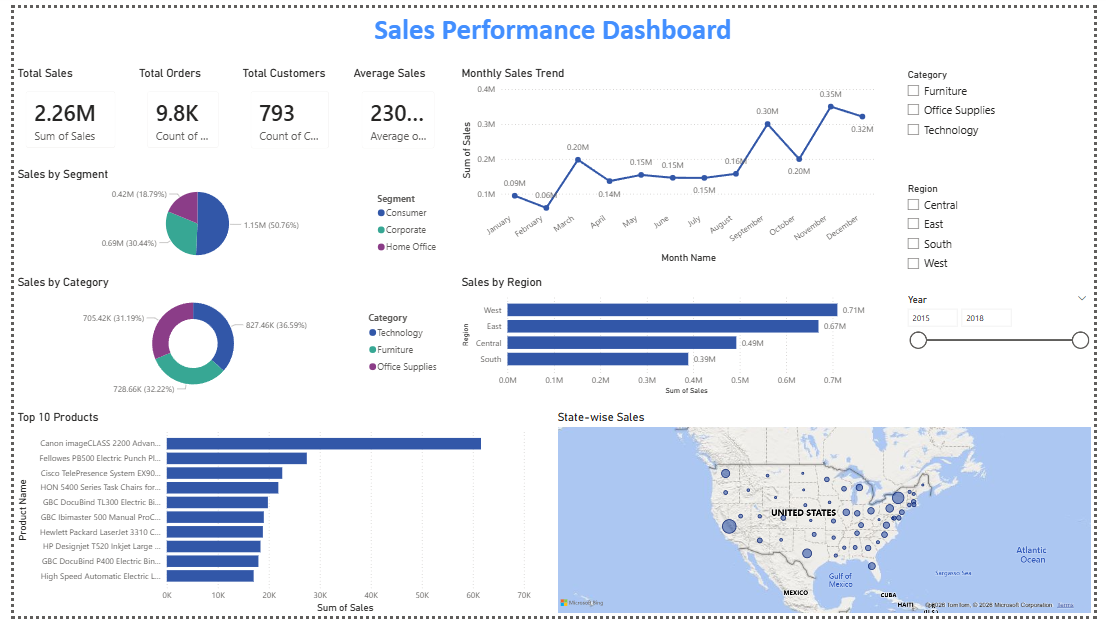

The page's visual inventory and layout, read from the dashboard file:
{"tool":"powerbi","page":{"name":"Page 1","canvas":[1600,900],"ordinal":0},"visuals":[{"type":"cardVisual","title":"Total Sales","fields":{"Data":["Sum(train.Sales)"]},"box":[0,87.5,167.5,137.5],"z":0},{"type":"cardVisual","title":"Total Orders","fields":{"Data":["CountNonNull(train.Sales)"]},"box":[179.3,87.3,140.7,138],"z":1000},{"type":"cardVisual","title":"Total Customers","fields":{"Data":["Count(train.Customer ID)"]},"box":[334.3,87.1,150,138.6],"z":2000},{"type":"cardVisual","title":"Average Sales","fields":{"Data":["Avg(train.Sales)"]},"box":[497.1,85.7,142.9,138.6],"z":3000},{"type":"lineChart","title":"Monthly Sales Trend","fields":{"Category":["train.Month Name"],"Y":["Sum(train.Sales)"]},"box":[657.5,87.5,622.5,295],"z":4000},{"type":"clusteredBarChart","title":"Sales by Region","fields":{"Category":["train.Region"],"Y":["Sum(train.Sales)"]},"box":[657,396,623,182],"z":5000},{"type":"donutChart","title":"Sales by Category","fields":{"Category":["train.Category"],"Y":["Sum(train.Sales)"]},"box":[0,395,640,183],"z":6000},{"type":"pieChart","title":"Sales by Segment","fields":{"Category":["train.Segment"],"Y":["Sum(train.Sales)"]},"box":[0,235,640,147.5],"z":7000},{"type":"clusteredBarChart","title":"Top 10 Products","fields":{"Category":["train.Product Name"],"Y":["Sum(train.Sales)"]},"box":[0,595,770,305],"z":8000},{"type":"map","title":"State-wise Sales","fields":{"Category":["train.State"],"Size":["Sum(train.Sales)"]},"box":[800,595,800,305],"z":9000},{"type":"slicer","fields":{"Values":["train.Year"]},"box":[1310,417.3,290,160.9],"z":10000},{"type":"slicer","fields":{"Values":["train.Region"]},"box":[1310,252.5,290,150],"z":11000},{"type":"slicer","fields":{"Values":["train.Category"]},"box":[1310,85,290,150],"z":12000},{"type":"textbox","box":[52.5,0,1490,62.5],"z":13000}]}

Visuals, with their boxes in screenshot pixels (x1, y1, x2, y2), scaled from the page's 1600x900 canvas onto the 1106x628 screenshot:
"Total Sales" cardVisual: detection(0, 61, 116, 157)
"Total Orders" cardVisual: detection(124, 61, 221, 157)
"Total Customers" cardVisual: detection(231, 61, 335, 157)
"Average Sales" cardVisual: detection(344, 60, 442, 157)
"Monthly Sales Trend" lineChart: detection(454, 61, 885, 267)
"Sales by Region" clusteredBarChart: detection(454, 276, 885, 403)
"Sales by Category" donutChart: detection(0, 276, 442, 403)
"Sales by Segment" pieChart: detection(0, 164, 442, 267)
"Top 10 Products" clusteredBarChart: detection(0, 415, 532, 627)
"State-wise Sales" map: detection(553, 415, 1105, 627)
slicer - train.Year: detection(906, 291, 1105, 403)
slicer - train.Region: detection(906, 176, 1105, 281)
slicer - train.Category: detection(906, 59, 1105, 164)
textbox: detection(36, 0, 1066, 44)
